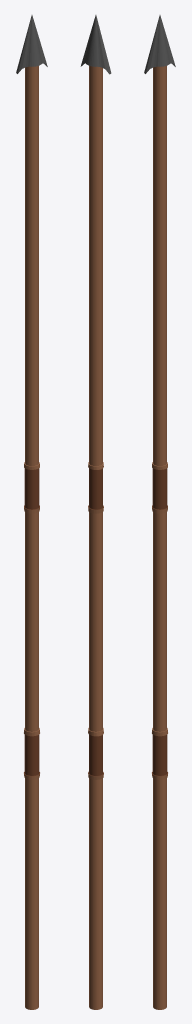
File: Spear - Simple.fbx
The picture shows the model from 3 angles, left to right: view 1: azimuth 90°, elevation 25°; view 2: azimuth 210°, elevation 25°; view 3: azimuth 270°, elevation 25°; orthographic projection.
Visible parts, largest first — view 1: Shaft, Head; view 2: Shaft, Head; view 3: Shaft, Head.
Boxes of the visible parts, left/top/right/bottom form: Shaft: left=24, top=66, right=39, bottom=1009; Head: left=16, top=15, right=47, bottom=73; Shaft: left=88, top=66, right=103, bottom=1009; Head: left=80, top=15, right=111, bottom=74; Shaft: left=152, top=66, right=167, bottom=1009; Head: left=144, top=15, right=175, bottom=73.
Bounding box in the file's own units: 4 × 210 × 6.11.
